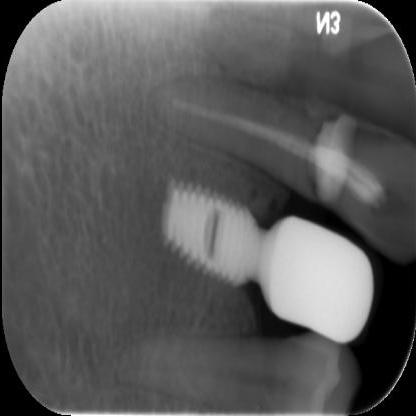Bicon: (156, 163, 268, 298)
